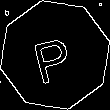P_N: (31, 26, 79, 84)
